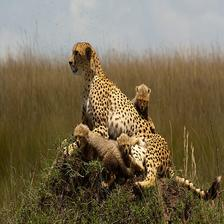Cheetah: (68, 41, 224, 199), (70, 125, 136, 185), (126, 84, 158, 139), (104, 134, 138, 183)
